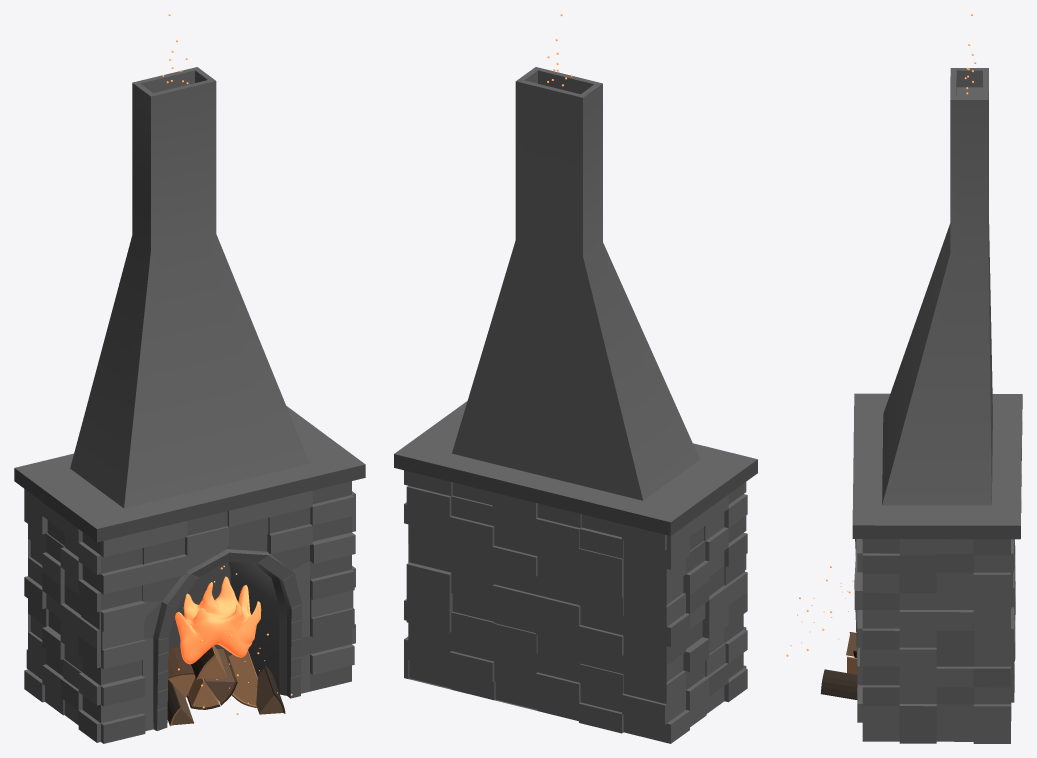
Rendered from Camino.fbx.
3 views of the same model, side by side, from view 1: azimuth 30°, elevation 25°; view 2: azimuth 150°, elevation 25°; view 3: azimuth 270°, elevation 25° (orthographic). The views are drawn at different scales.
Visible parts, largest first — view 1: Fireplace.001; view 2: Fireplace.001; view 3: Fireplace.001.
Part boxes in pixels (x1,y1,x2,y2): Fireplace.001: [14, 14, 365, 743]; Fireplace.001: [394, 14, 757, 743]; Fireplace.001: [786, 14, 1022, 743].
Size of the model in its own units: 454 by 1065 by 342.
